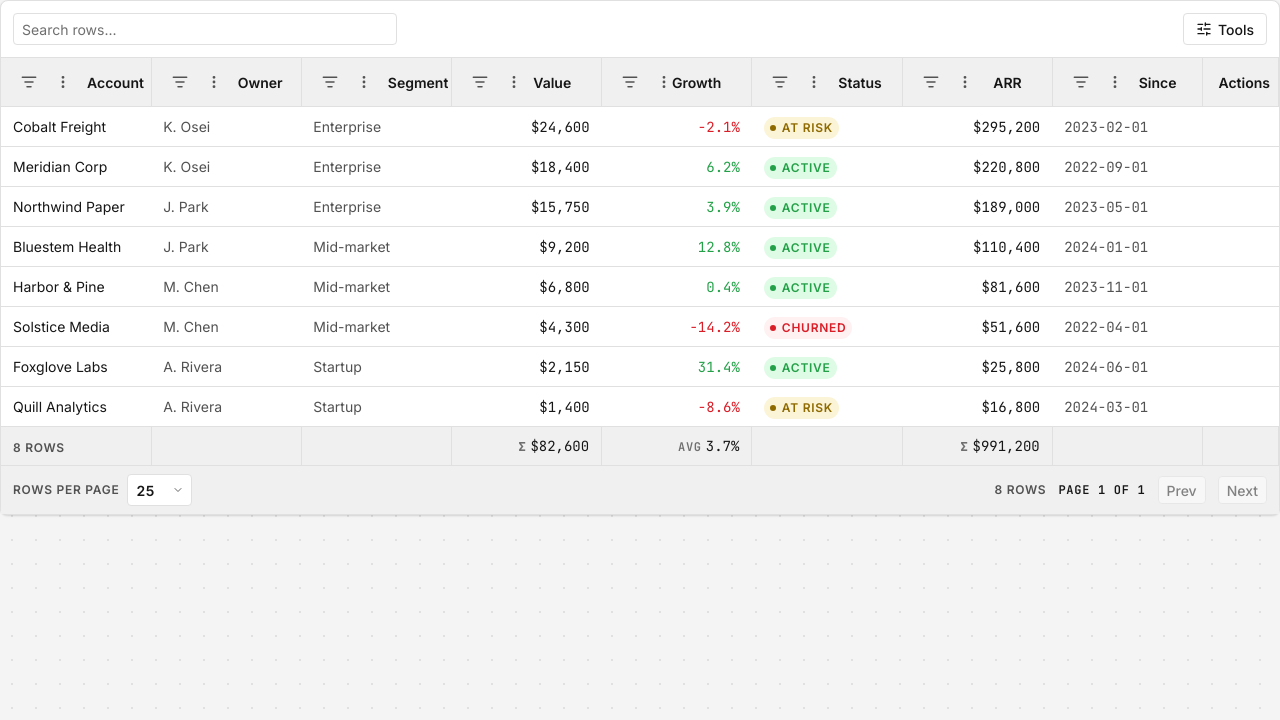
Scenario: column-menu per-column filter › opens the filter dialog from the visible header filter icon
The width and height of the screenshot is (1280, 720).
What coordinates should you click on to do the following:
click the button named "segment column filter"
I would click on:
 (330, 82)
Its box is [314,66,346,98].
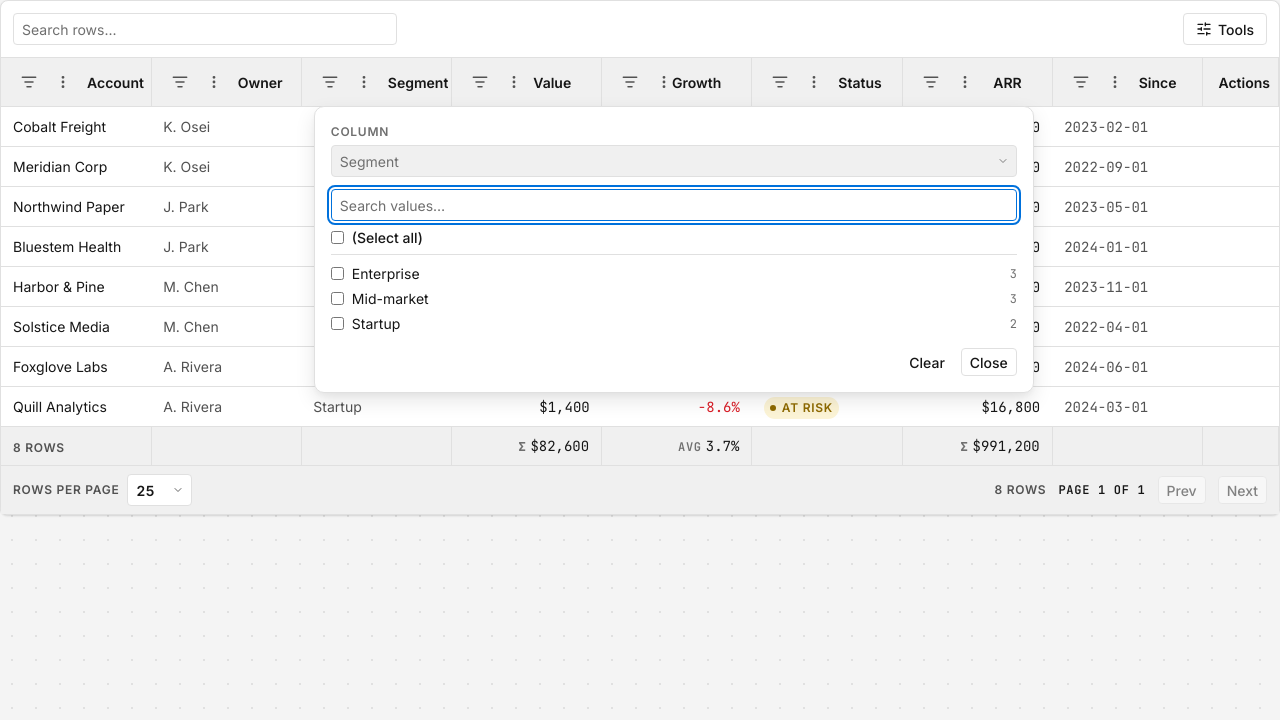
Result: the dialog named "segment filter" is shown at [314,106,1034,393]
